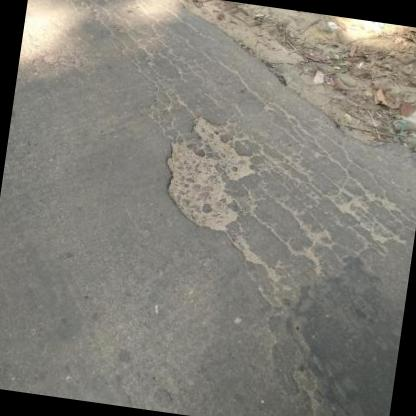pothole: (153, 110, 264, 236)
